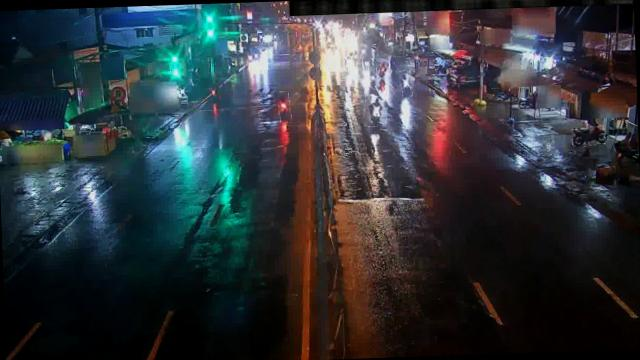Bike: (363, 95, 388, 127), (571, 126, 606, 146), (492, 88, 520, 110), (278, 91, 291, 123), (399, 71, 412, 97), (378, 60, 389, 78), (370, 67, 378, 89)
